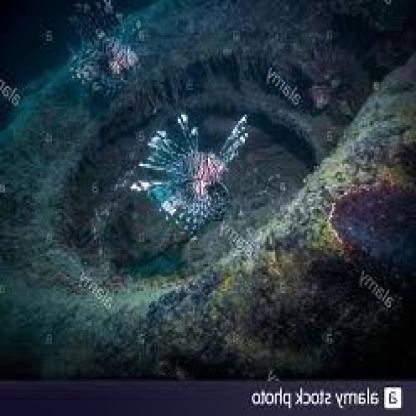tire: (3, 14, 388, 367)
